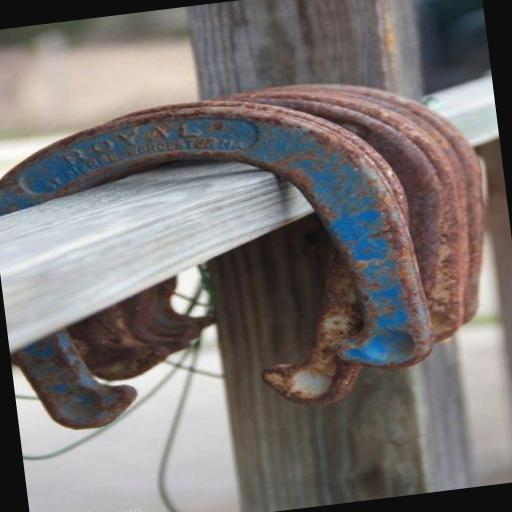corrosion: (65, 261, 218, 396), (0, 88, 185, 186)
